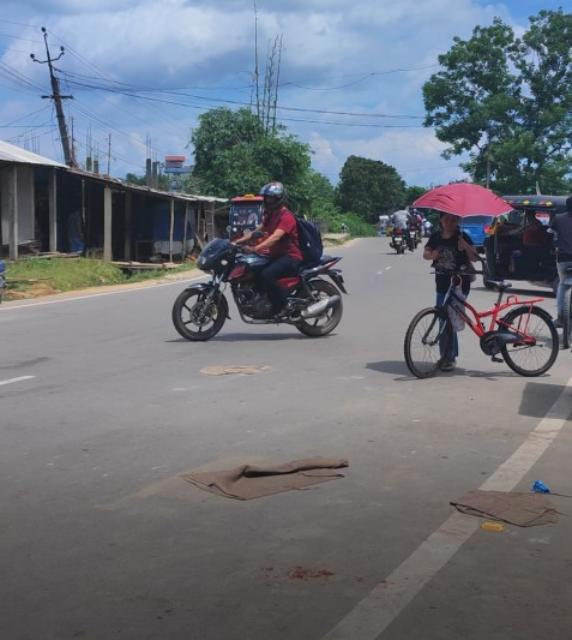licensePlate: (393, 236, 402, 242)
motorcycle: (171, 182, 342, 342), (386, 199, 412, 256)
withHelmet: (258, 183, 287, 208), (396, 203, 405, 211)
